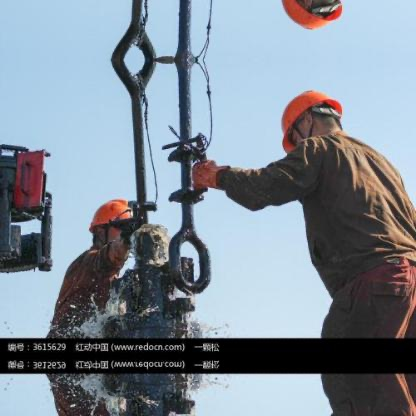Safety Helmet: (258, 75, 366, 185), (73, 189, 150, 259)
